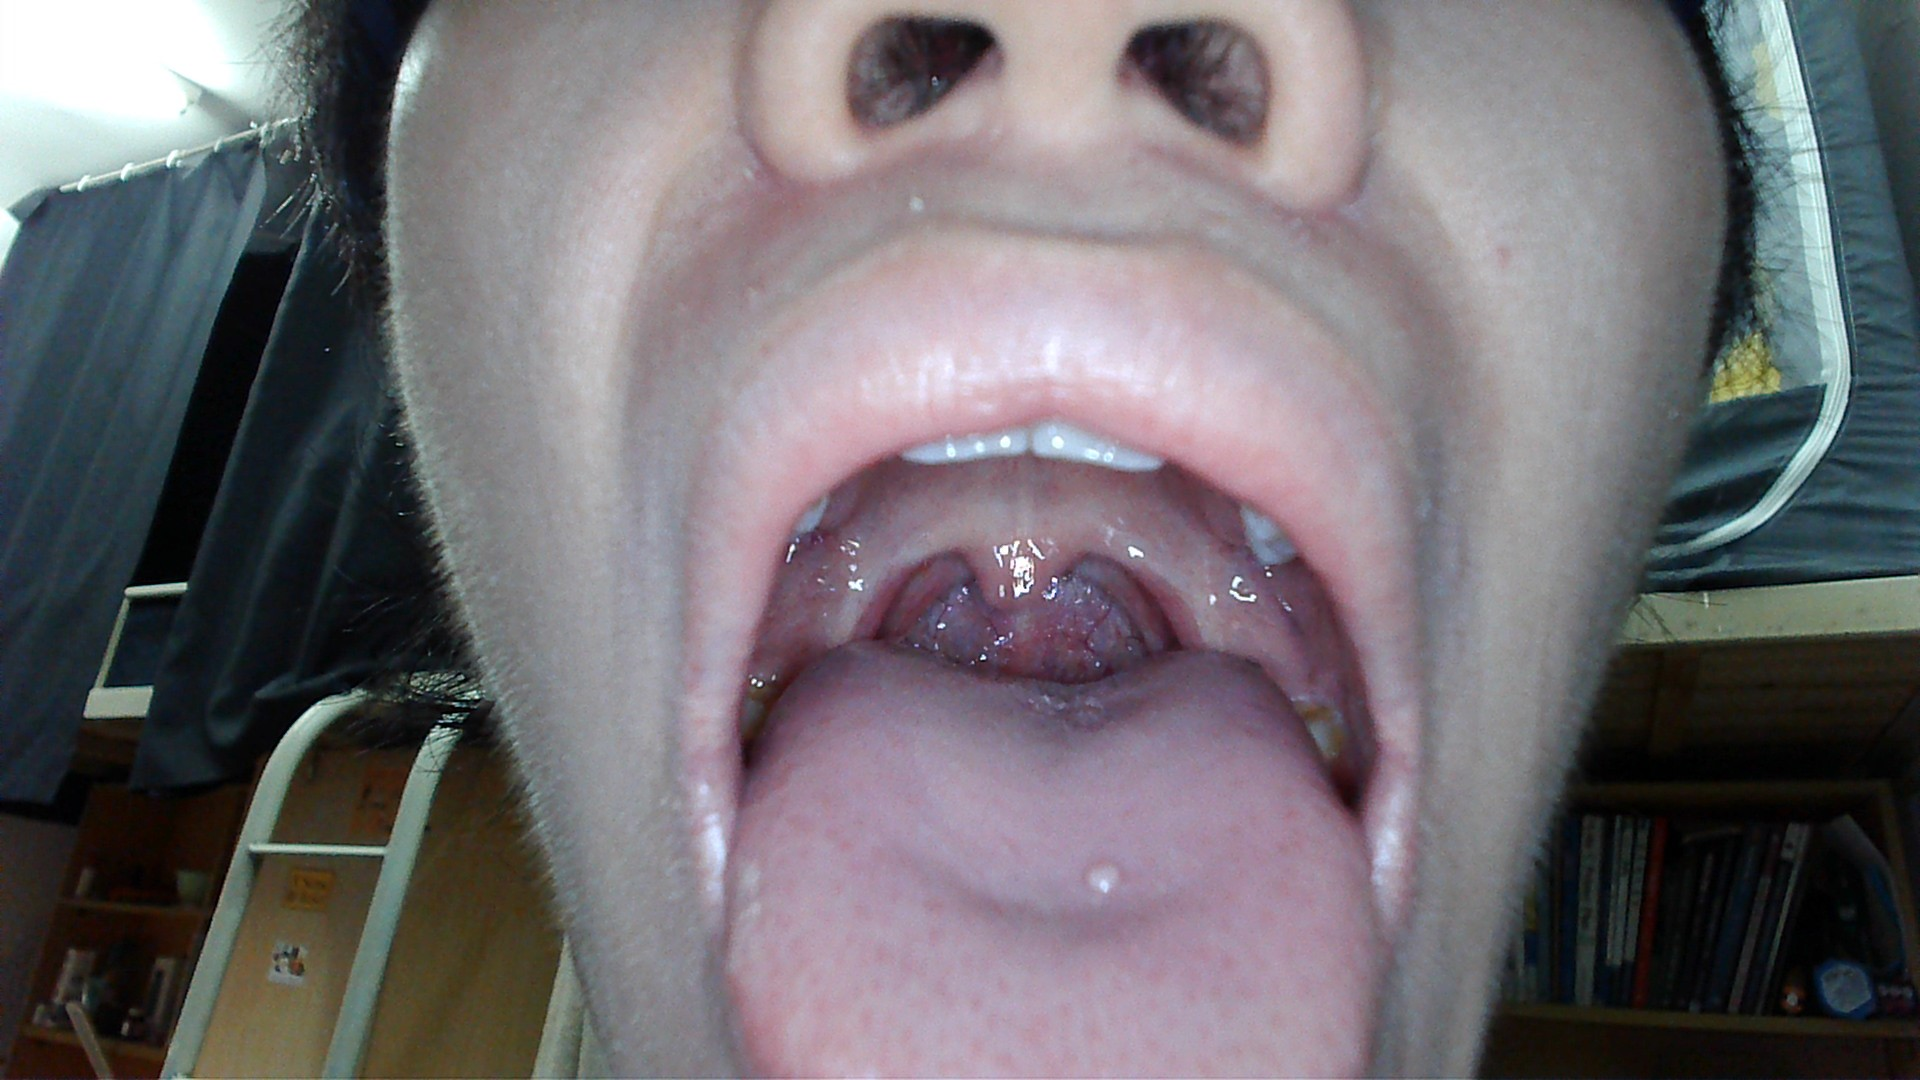throat: (1130, 545, 1211, 651), (837, 549, 914, 644)
